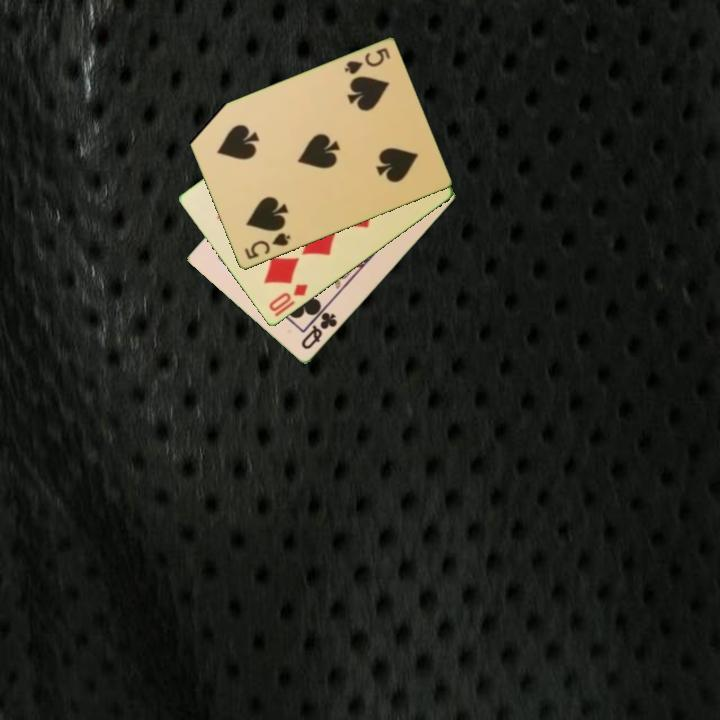10d: (265, 281, 311, 320)
5s: (340, 45, 393, 78), (241, 229, 293, 262)
Qc: (298, 309, 340, 353)
